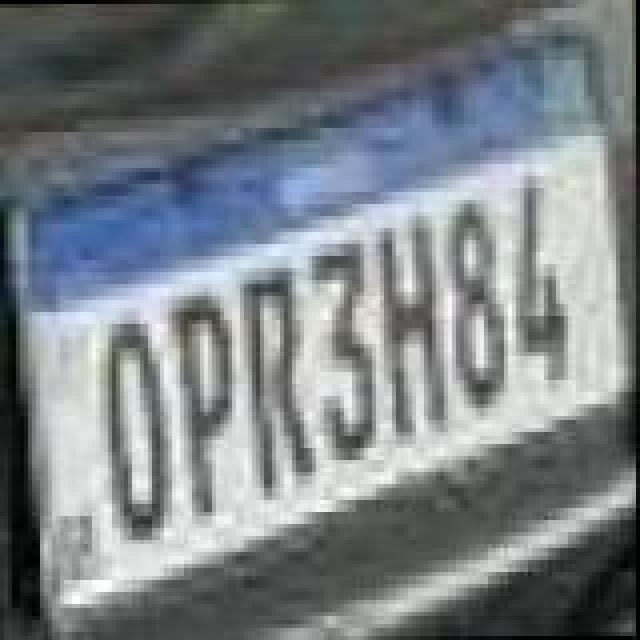3: (304, 238, 380, 466)
4: (510, 174, 574, 394)
8: (440, 200, 516, 420)
H: (370, 210, 458, 442)
O: (98, 316, 174, 548)
P: (166, 290, 242, 522)
R: (236, 268, 324, 500)
